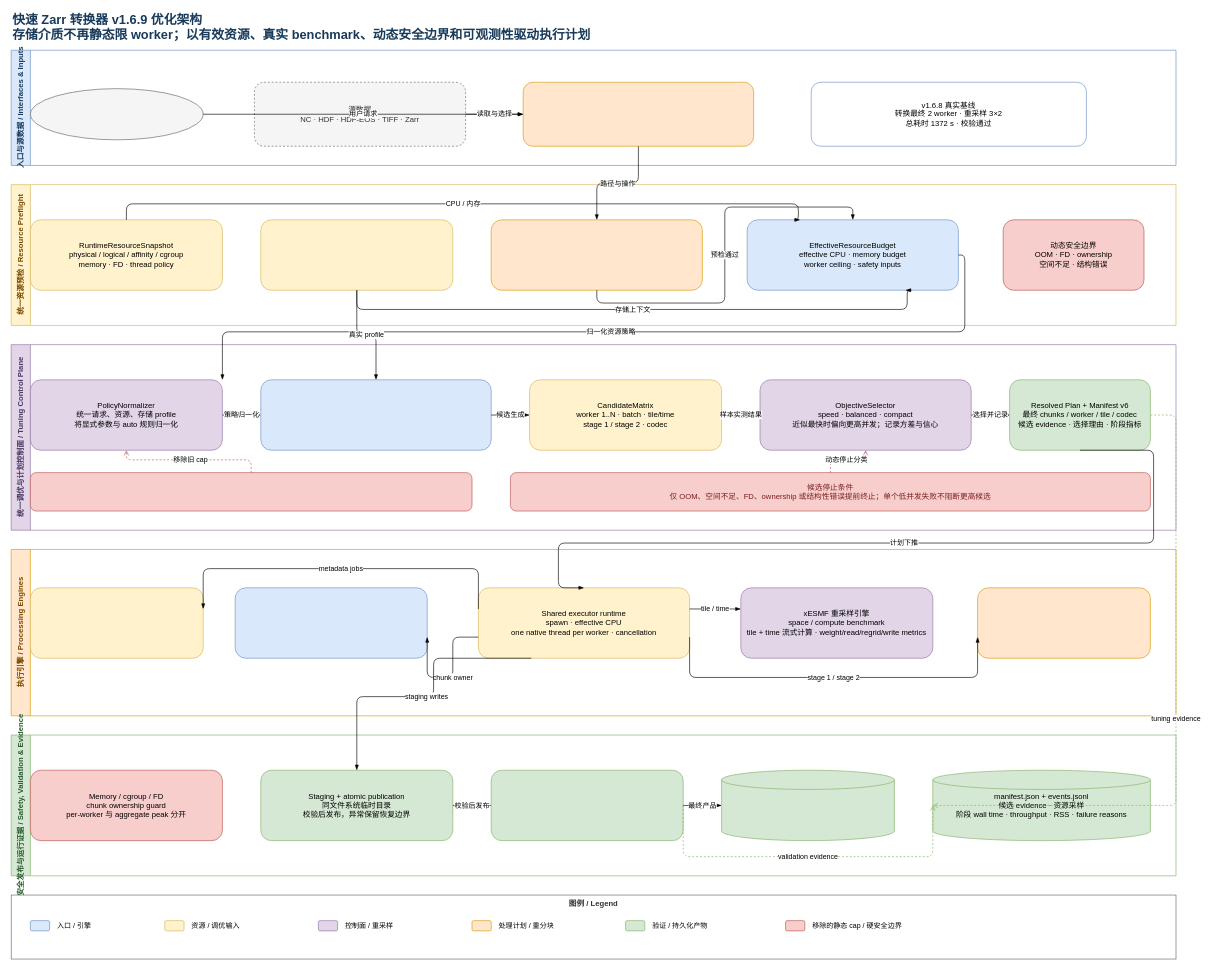
This 1212x970 diagram has some shape labels left out. Each missing label, with the centre of its shape:
"BenchmarkOrchestrator 候选生成 · 分层抽样 · 真实目标盘实测 conversion / resample / rechunk" goes at (x=375, y=414).
"StorageProfile source / temporary / output HDD · SSD · same device · filesystem" goes at (x=356, y=254).
"Validation 结构 · 坐标 · 逐值 · 数学抽样 语义检查与覆盖范围报告" goes at (x=587, y=805).
"个人用户 CLI · GUI · Python services" goes at (x=116, y=114).
"启动前预检 temporary/output writable UUID · free space · overwrite safety" goes at (x=596, y=254).
"操作意图与约束 范围 · chunks · codec · speed / balanced / compact" goes at (x=638, y=114).
"最终 Zarr v3 time / lat / lon 恢复检查点" goes at (x=807, y=805).
"源检查与时间映射 metadata worker 1..N Inventory · filename / time rules" goes at (x=116, y=622).
"移除静态介质 cap HDD / SSD / 同设备只作 benchmark context，不直接截断候选" goes at (x=251, y=491).
"转换引擎 + writer file / chunk / Dask source chunk owner · Zarr codec pipeline" goes at (x=331, y=622).
"重分块 + 无损重压缩 stage 1 / stage 2 独立候选 物理 chunk 对齐 · codec buffer guard" goes at (x=1063, y=622).
